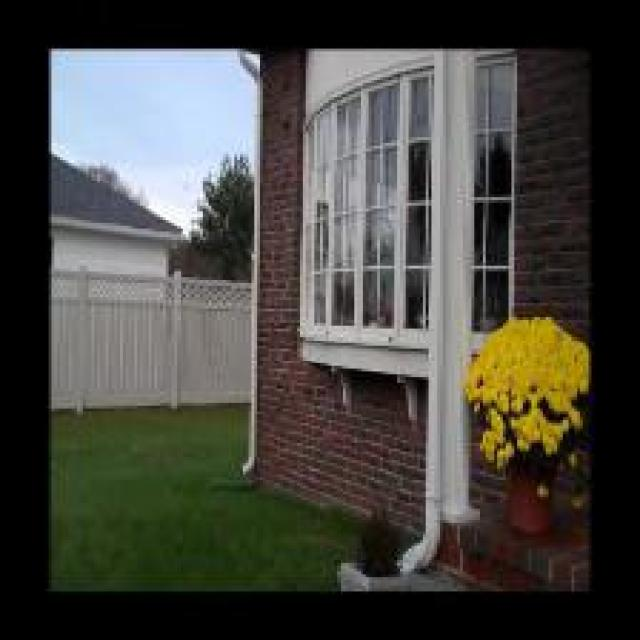other: (460, 304, 597, 540)
